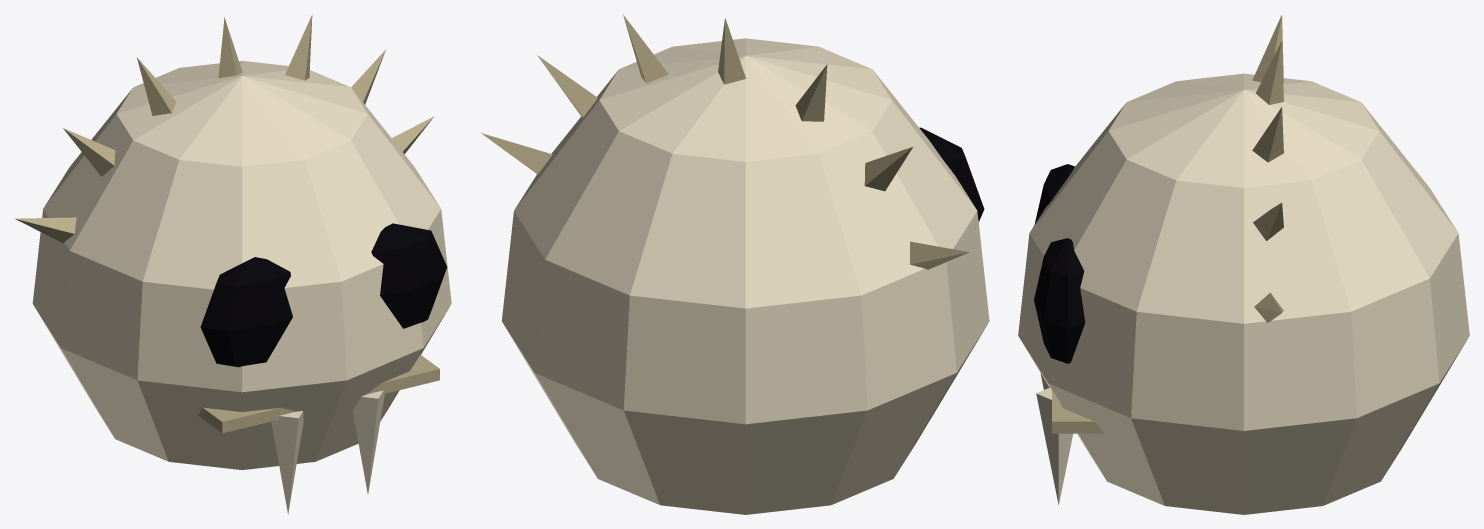
Rendered from Mine_Bone_Skull.fbx.
3 renders of one model, left to right at view 1: azimuth 30°, elevation 25°; view 2: azimuth 150°, elevation 25°; view 3: azimuth 270°, elevation 25°, orthographic. The views are drawn at different scales.
Parts seen in each view (by area): view 1: Mine_Bone_Skull_Body; view 2: Mine_Bone_Skull_Body; view 3: Mine_Bone_Skull_Body.
Boxes of the visible parts, bbox=[...] form: Mine_Bone_Skull_Body: bbox=[15, 14, 451, 514]; Mine_Bone_Skull_Body: bbox=[481, 14, 989, 514]; Mine_Bone_Skull_Body: bbox=[1018, 15, 1469, 514].
Bounding box in the file's own units: 0.4635 × 0.4486 × 0.4.
